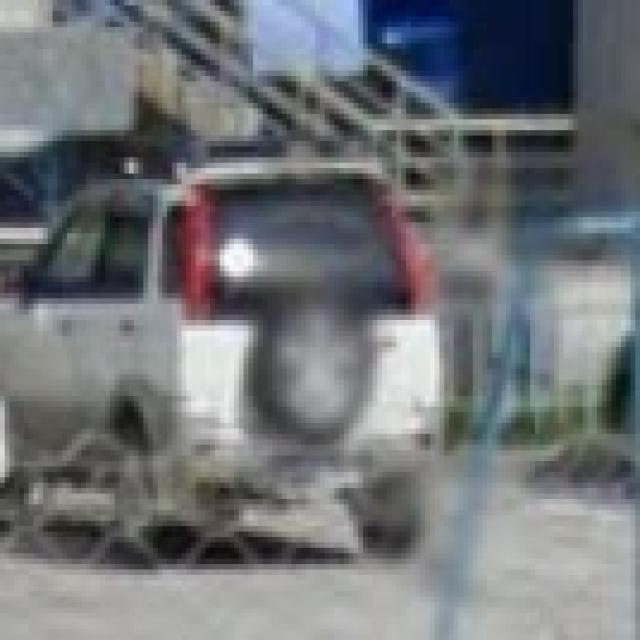car: (0, 154, 442, 571)
